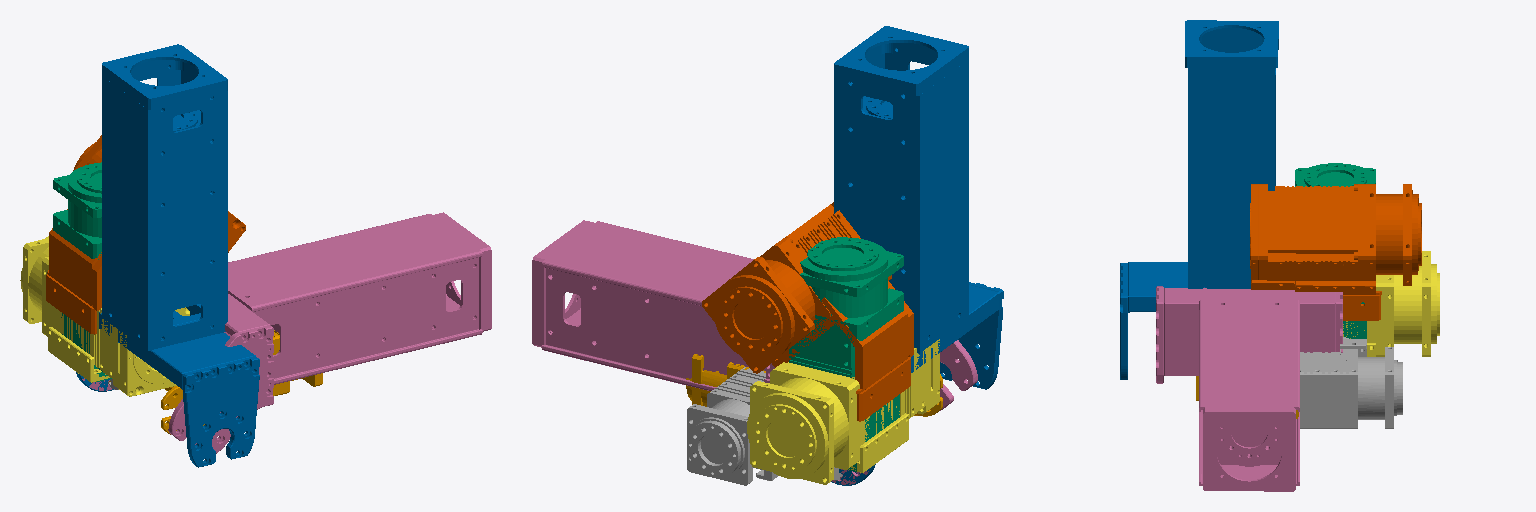
The robot description file, URDF, robot "lwr":
<?xml version="1.0" ?>
<!-- =================================================================================== -->
<!-- |    This document was autogenerated by xacro from kuka_lwr.urdf.xacro            | -->
<!-- |    EDITING THIS FILE BY HAND IS NOT RECOMMENDED                                 | -->
<!-- =================================================================================== -->
<robot name="lwr">

  <link name="world"/>

  <joint name="world_joint" type="fixed">
    <parent link="world"/>
    <child link="link_0"/>
    <origin xyz="0 0 0" rpy = "0 0 3.14"/>
  </joint>

  <link name="link_0">
    <inertial>
      <origin rpy="0 0 0" xyz="-0.000638499331014356 5.02538509694617E-06 0.0482289968116927"/>
      <mass value="1.21032454350876"/>
      <inertia ixx="0.0262560565710656" ixy="-5.2754950052563E-07" ixz="3.77940202490646E-05" iyy="0.0280724642508563" iyz="-2.56972470148208E-07" izz="0.0306998250407766"/>
    </inertial>
    <visual>
      <origin rpy="0 0 3.141592653589793" xyz="0 0 0"/>
      <geometry>
        <mesh filename="package://robot_model/kuka_lwr/pinocchio_model/meshes/link0.stl"/>
      </geometry>
      <!-- <material name="color_j0"/> -->
    </visual>
    <collision>
      <origin rpy="0 0 3.141592653589793" xyz="0 0 0"/>
      <geometry>
        <mesh filename="package://robot_model/kuka_lwr/pinocchio_model/meshes/link0_c2.stl"/>
      </geometry>
    </collision>
  </link>
  <!-- joint between lwr_0_link and lwr_1_link -->
  <joint name="joint_0" type="revolute">
    <parent link="link_0"/>
    <child link="link_1"/>
    <limit effort="2000.0" lower="-2.9670597283903604" upper="2.9670597283903604" velocity="1.9634954084936207"/>
    <!-- <dynamics damping="0.2" friction="1.0"/> -->
    <origin rpy="0 0 0" xyz="0 0 0.102"/>
    <axis xyz="0 0 1"/>
  </joint>
  <link name="link_1">
    <inertial>
      <origin rpy="0 0 0" xyz="-6.33965437334127E-08 0.0233273473346096 0.118146290406178"/>
      <mass value="2.30339938771869"/>
      <inertia ixx="0.156081163626041" ixy="5.97319920503909E-08" ixz="-1.64780770629425E-07" iyy="0.153467542173805" iyz="0.0319168949093809" izz="0.0440736079943446"/>
    </inertial>
    <visual>
      <origin rpy="0 0 3.141592653589793" xyz="0 0 0"/>
      <geometry>
        <mesh filename="package://robot_model/kuka_lwr/pinocchio_model/meshes/link1.stl"/>
      </geometry>
      <!-- <material name="color_j1"/> -->
    </visual>
    <collision>
      <origin rpy="0 0 3.141592653589793" xyz="0 0 0"/>
      <geometry>
        <mesh filename="package://robot_model/kuka_lwr/pinocchio_model/meshes/link1_c2.stl"/>
      </geometry>
    </collision>
  </link>
  <!-- joint between lwr_1_link and lwr_2_link -->
  <joint name="joint_1" type="revolute">
    <parent link="link_1"/>
    <child link="link_2"/>
    <limit effort="2000.0" lower="-2.0943951023931953" upper="2.0943951023931953" velocity="1.9634954084936207"/>
    <!-- <dynamics damping="0.18000000000000002" friction="1.0"/> -->
    <origin rpy="0 0 0" xyz="0 0.0 0.2085"/>
    <axis xyz="0 -1 0"/>
  </joint>
  <link name="link_2">
    <inertial>
      <origin rpy="0 0 0" xyz="1.26774962153076E-06 -0.032746486541291 0.0736556727355962"/>
      <mass value="2.30343543179071"/>
      <inertia ixx="0.0142348526057094" ixy="-3.73763310100809E-08" ixz="1.70703603169075E-07" iyy="0.0141319978448755" iyz="0.00228090337255746" izz="0.00424792208583136"/>
    </inertial>
    <visual>
      <origin rpy="0 0 3.141592653589793" xyz="0 0 0"/>
      <geometry>
        <mesh filename="package://robot_model/kuka_lwr/pinocchio_model/meshes/link2.stl"/>
      </geometry>
      <!-- <material name="color_j2"/> -->
    </visual>
    <collision>
      <origin rpy="0 0 3.141592653589793" xyz="0 0 0"/>
      <geometry>
        <mesh filename="package://robot_model/kuka_lwr/pinocchio_model/meshes/link2_c2.stl"/>
      </geometry>
    </collision>
  </link>
  <!-- joint between lwr_2_link and lwr_3_link -->
  <joint name="joint_2" type="revolute">
    <parent link="link_2"/>
    <child link="link_3"/>
    <limit effort="1000.0" lower="-2.9670597283903604" upper="2.9670597283903604" velocity="1.9634954084936207"/>
    <!-- <dynamics damping="0.1" friction="1.0"/> -->
    <origin rpy="0 0 0" xyz="0 0 0.1915"/>
    <axis xyz="0 0 1"/>
  </joint>
  <link name="link_3">
    <inertial>
      <origin rpy="0 0 0" xyz="-1.40921289121243E-06 -0.0233297626126898 0.11815047247629"/>
      <mass value="2.30342143971329"/>
      <inertia ixx="0.0156098024078732" ixy="4.75479645197283E-08" ixz="1.17852233217589E-07" iyy="0.0153476851366831" iyz="-0.00319215869825882" izz="0.0044071430916942"/>
    </inertial>
    <visual>
      <origin rpy="0 0 3.141592653589793" xyz="0 0 0"/>
      <geometry>
        <mesh filename="package://robot_model/kuka_lwr/pinocchio_model/meshes/link3.stl"/>
      </geometry>
      <!-- <material name="color_j3"/> -->
    </visual>
    <collision>
      <origin rpy="0 0 3.141592653589793" xyz="0 0 0"/>
      <geometry>
        <mesh filename="package://robot_model/kuka_lwr/pinocchio_model/meshes/link3_c2.stl"/>
      </geometry>
    </collision>
  </link>
  <!-- joint between lwr_3_link and lwr_4_link -->
  <joint name="joint_3" type="revolute">
    <parent link="link_3"/>
    <child link="link_4"/>
    <limit effort="1000.0" lower="-2.0943951023931953" upper="2.0943951023931953" velocity="1.9634954084936207"/>
    <!-- <dynamics damping="0.15000000000000002" friction="1.0"/> -->
    <origin rpy="0 0 0" xyz="0 0 0.2085"/>
    <axis xyz="0 1 0"/>
  </joint>
  <link name="link_4">
    <inertial>
      <origin rpy="0 0 0" xyz="1.12239473548659E-07 0.0327442387470235 0.073658815701594"/>
      <mass value="2.30343586527606"/>
      <inertia ixx="0.0142336552604204" ixy="-5.89296043886227E-08" ixz="-1.568273589226E-07" iyy="0.0141315528954361" iyz="-0.00228056254422505" izz="0.00424816761410708"/>
    </inertial>
    <visual>
      <origin rpy="0 0 3.141592653589793" xyz="0 0 0"/>
      <geometry>
        <mesh filename="package://robot_model/kuka_lwr/pinocchio_model/meshes/link4.stl"/>
      </geometry>
      <!-- <material name="color_j4"/> -->
    </visual>
    <collision>
      <origin rpy="0 0 3.141592653589793" xyz="0 0 0"/>
      <geometry>
        <mesh filename="package://robot_model/kuka_lwr/pinocchio_model/meshes/link4_c2.stl"/>
      </geometry>
    </collision>
  </link>
  <!-- joint between lwr_4_link and lwr_5_link -->
  <joint name="joint_4" type="revolute">
    <parent link="link_4"/>
    <child link="link_5"/>
    <limit effort="1000.0" lower="-2.9670597283903604" upper="2.9670597283903604" velocity="3.141592653589793"/>
    <!-- <dynamics damping="0.12" friction="0.4"/> -->
    <origin rpy="0 0 0" xyz="0 0.0 0.1915"/>
    <axis xyz="0 0 1"/>
  </joint>
  <link name="link_5">
    <inertial>
      <origin rpy="0 0 0" xyz="-6.00824789920296E-07 0.0207751869661564 0.0862053948486382"/>
      <mass value="1.60059828363332"/>
      <inertia ixx="0.00880806620496216" ixy="1.22820321842462E-07" ixz="-5.66844221164893E-08" iyy="0.00813520145401624" iyz="0.00261443543508601" izz="0.00359712267754715"/>
    </inertial>
    <visual>
      <origin rpy="0 0 3.141592653589793" xyz="0 0 0"/>
      <geometry>
        <mesh filename="package://robot_model/kuka_lwr/pinocchio_model/meshes/link5.stl"/>
      </geometry>
      <!-- <material name="color_j5"/> -->
    </visual>
    <collision>
      <origin rpy="0 0 3.141592653589793" xyz="0 0 0"/>
      <geometry>
        <mesh filename="package://robot_model/kuka_lwr/pinocchio_model/meshes/link5_c2.stl"/>
      </geometry>
    </collision>
  </link>
  <!-- joint between lwr_5_link and lwr_6_link -->
  <joint name="joint_5" type="revolute">
    <parent link="link_5"/>
    <child link="link_6"/>
    <limit effort="300.0" lower="-2.0943951023931953" upper="2.0943951023931953" velocity="1.9634954084936207"/>
    <!-- <dynamics damping="0.1" friction="0.1"/> -->
    <origin rpy="0 0 0" xyz="0 0 0.1985"/>
    <axis xyz="0 -1 0"/>
  </joint>
  <link name="link_6">
    <inertial>
      <origin rpy="0 0 0" xyz="-2.64519244286276E-08 -0.00451753627467652 -0.00295324741635017"/>
      <mass value="1.49302436988808"/>
      <inertia ixx="0.0298541138330797" ixy="-3.97658663154265E-09" ixz="-1.71667243685877E-09" iyy="0.0299834927882566" iyz="-2.53647350791604E-05" izz="0.0323627047307316"/>
    </inertial>
    <visual>
      <origin rpy="0 0 3.141592653589793" xyz="0 0 0"/>
      <geometry>
        <mesh filename="package://robot_model/kuka_lwr/pinocchio_model/meshes/link6.stl"/>
      </geometry>
      <!-- <material name="color_j6"/> -->
    </visual>
    <collision>
      <origin rpy="0 0 3.141592653589793" xyz="0 0 0"/>
      <geometry>
        <mesh filename="package://robot_model/kuka_lwr/pinocchio_model/meshes/link6_c2.stl"/>
      </geometry>
    </collision>
  </link>
  <!-- joint between lwr_6_link and lwr_7_link -->
  <joint name="joint_6" type="revolute">
    <parent link="link_6"/>
    <child link="link_7"/>
    <limit effort="300.0" lower="-2.9670597283903604" upper="2.9670597283903604" velocity="1.9634954084936207"/>
    <!-- <dynamics damping="0.1" friction="0.1"/> -->
    <origin rpy="0 0 0" xyz="0 0 0.078"/>
    <axis xyz="0 0 1"/>
  </joint>
  <link name="link_7">
    <inertial>
      <origin rpy="0 0 0" xyz="2.77555756156289E-17 1.11022302462516E-16 -0.015814675599801"/>
      <mass value="0.108688241139613"/>
      <inertia ixx="4.17908737998876E-02" ixy="0" ixz="0" iyy="4.17908737998876E-02" iyz="0" izz="7.00756879151782E-02"/>
    </inertial>
    <visual>
      <origin rpy="0 0 3.141592653589793" xyz="0 0 0"/>
      <geometry>
        <mesh filename="package://robot_model/kuka_lwr/pinocchio_model/meshes/link7.stl"/>
      </geometry>
      <!-- <material name="color_j7"/> -->
    </visual>
    <collision>
      <origin rpy="0 0 3.141592653589793" xyz="0 0 0"/>
      <geometry>
        <mesh filename="package://robot_model/kuka_lwr/pinocchio_model/meshes/link7_c2.stl"/>
      </geometry>
    </collision>
  </link>
  <joint name="end_effector" type="fixed">
    <parent link="link_7"/>
    <child link="end_effector"/>
    <origin rpy="0 0 0" xyz="0 0 0"/>
  </joint>
  <link name="end_effector"/>
</robot>

--- What the picture shows (computed from the rendered views, not written in the file) ---
Views: 3 orthographic renders of the robot side by side, from view 1: azimuth 30°, elevation 25°; view 2: azimuth 150°, elevation 25°; view 3: azimuth 270°, elevation 25°.
Robot: lwr — 10 links, 9 joints (7 revolute, 2 fixed); root link world; default pose: every joint at zero.
Links seen in each view (by area): view 1: link_3, link_5, link_2, link_4, link_1, link_7; view 2: link_3, link_5, link_4, link_2, link_1, link_6, link_7; view 3: link_5, link_3, link_4, link_6, link_2, link_1.
Link boxes in pixels (x1=…): link_3: x1=76, y1=44, x2=259, y2=467; link_5: x1=82, y1=212, x2=491, y2=453; link_2: x1=20, y1=236, x2=189, y2=396; link_4: x1=46, y1=135, x2=245, y2=334; link_1: x1=53, y1=162, x2=111, y2=381; link_7: x1=109, y1=330, x2=322, y2=434; link_3: x1=831, y1=26, x2=1003, y2=485; link_5: x1=532, y1=220, x2=977, y2=484; link_4: x1=702, y1=202, x2=913, y2=421; link_2: x1=747, y1=339, x2=939, y2=484; link_1: x1=789, y1=237, x2=903, y2=471; link_6: x1=687, y1=367, x2=842, y2=485; link_7: x1=686, y1=354, x2=942, y2=416; link_5: x1=1156, y1=286, x2=1342, y2=491; link_3: x1=1120, y1=20, x2=1278, y2=379; link_4: x1=1250, y1=184, x2=1421, y2=320; link_6: x1=1300, y1=337, x2=1402, y2=428; link_2: x1=1343, y1=251, x2=1439, y2=356; link_1: x1=1295, y1=163, x2=1375, y2=338.
Bounding box of the posed robot: 257 × 212 × 250 m (x, y, z).
Meshes: 8 distinct files referenced, 7 mesh visuals loaded (7 binary STL); not drawn: 1 (reference not matched to a file when rendering).
